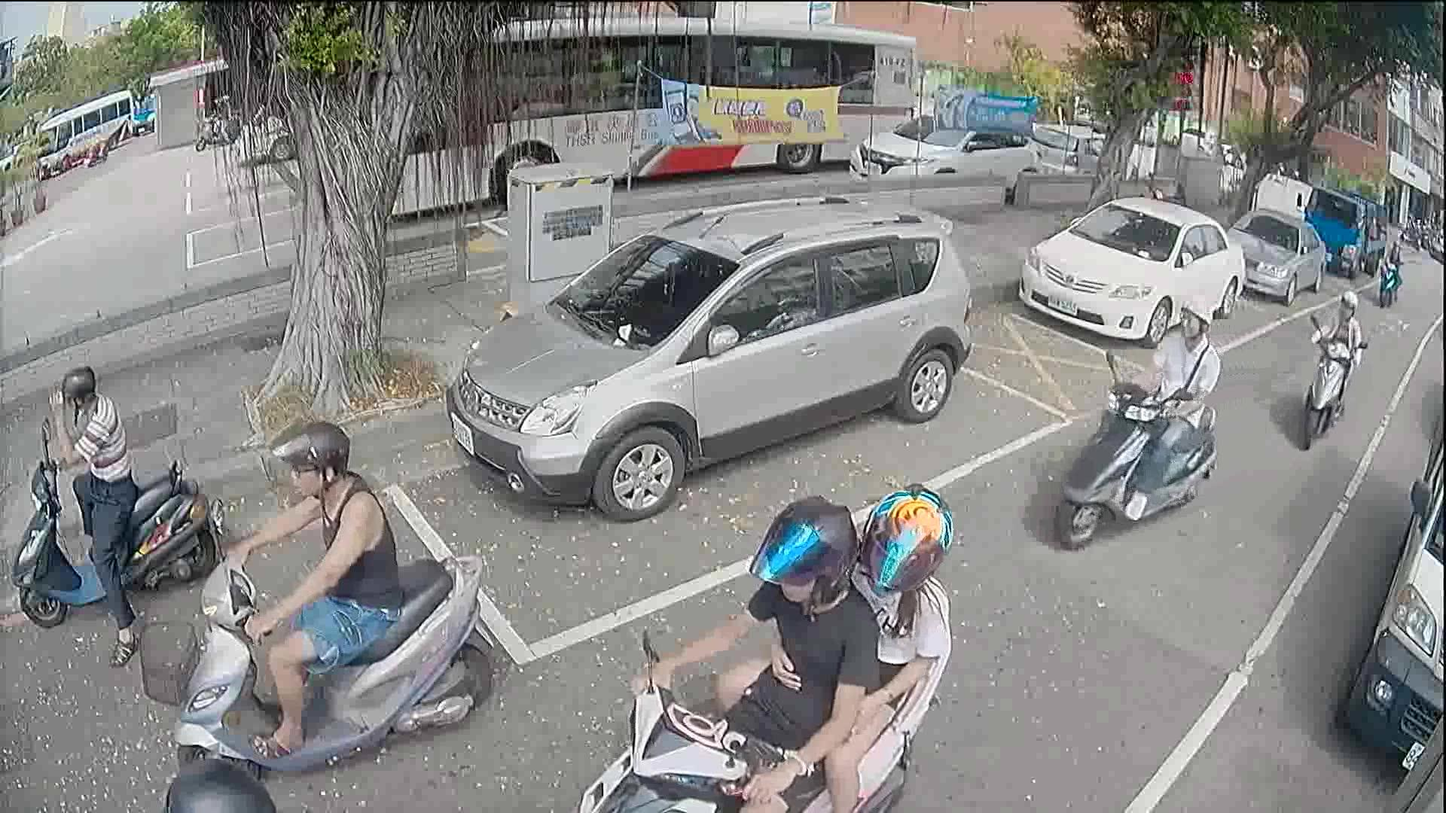person: (714, 490, 958, 812), (627, 502, 880, 810), (214, 423, 403, 769), (41, 364, 145, 663), (1094, 303, 1214, 519), (1307, 291, 1365, 422), (160, 754, 282, 811), (1383, 237, 1402, 297), (84, 122, 102, 149), (209, 96, 223, 129)
